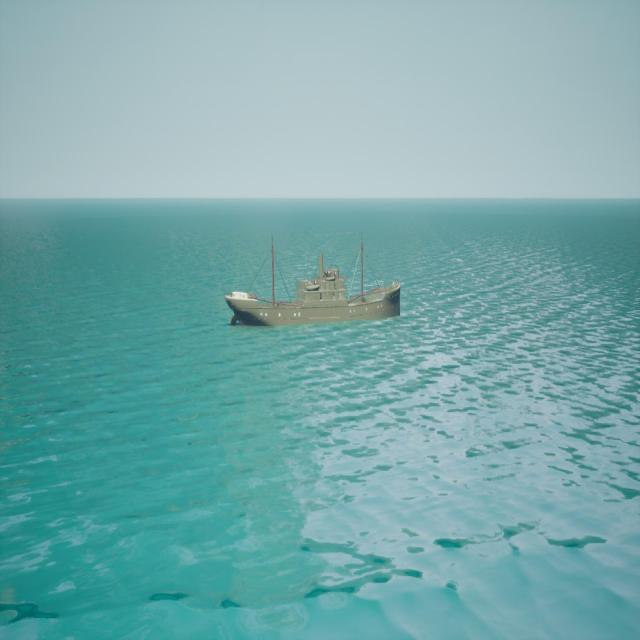fishing ship: (226, 235, 403, 329)
